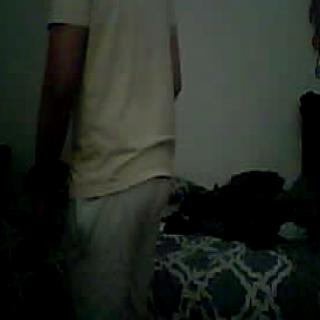White Sweatpants: (65, 172, 176, 320)
Yellow T-Shirt: (47, 0, 179, 172)
